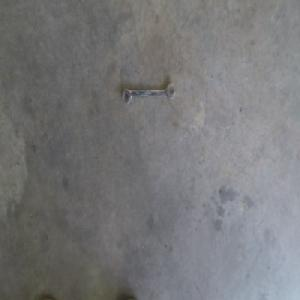Wrench: (121, 82, 176, 105)
